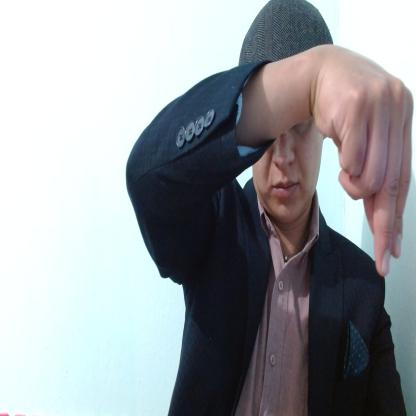N: (309, 44, 412, 278)
